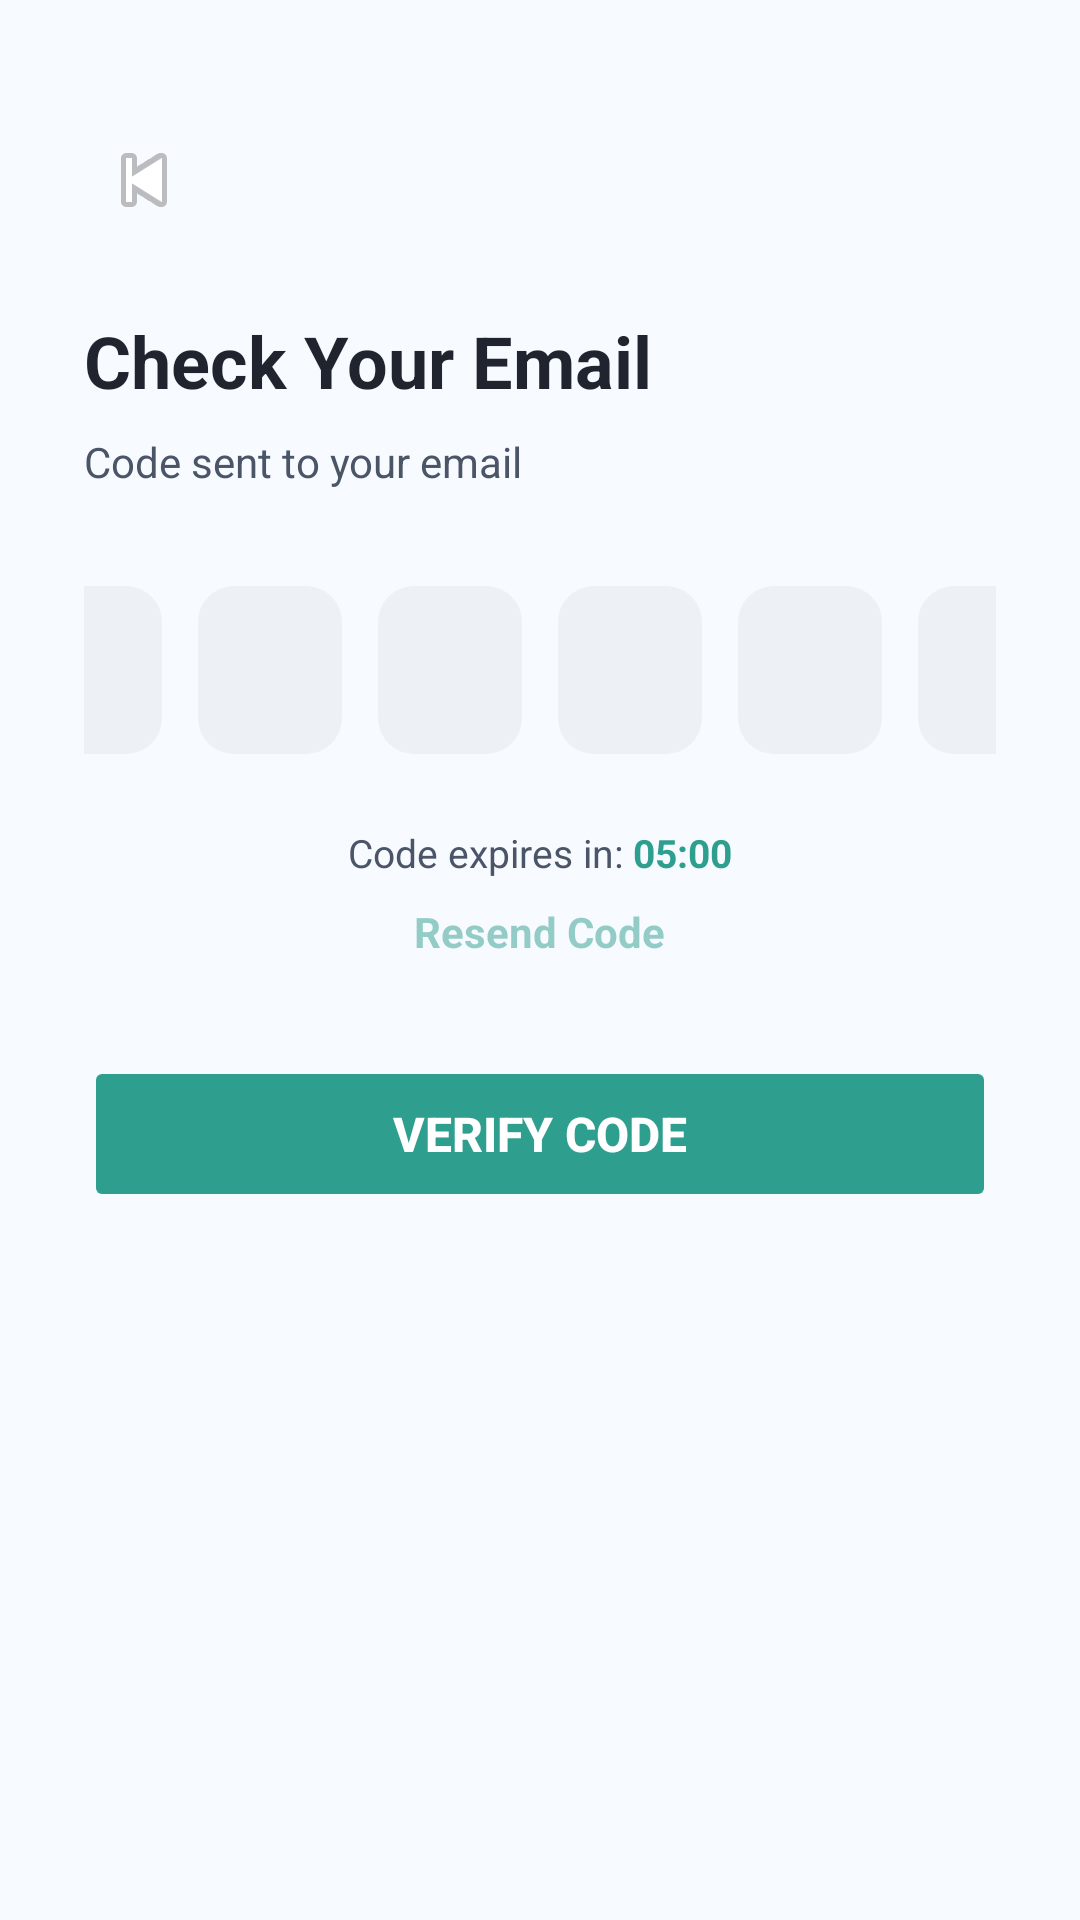

Locate icon controls on the screen. Image size 1080px x 1920px, boxes as bbox=(x1, y1, x2, y2).
Back: bbox=(121, 153, 167, 207)
